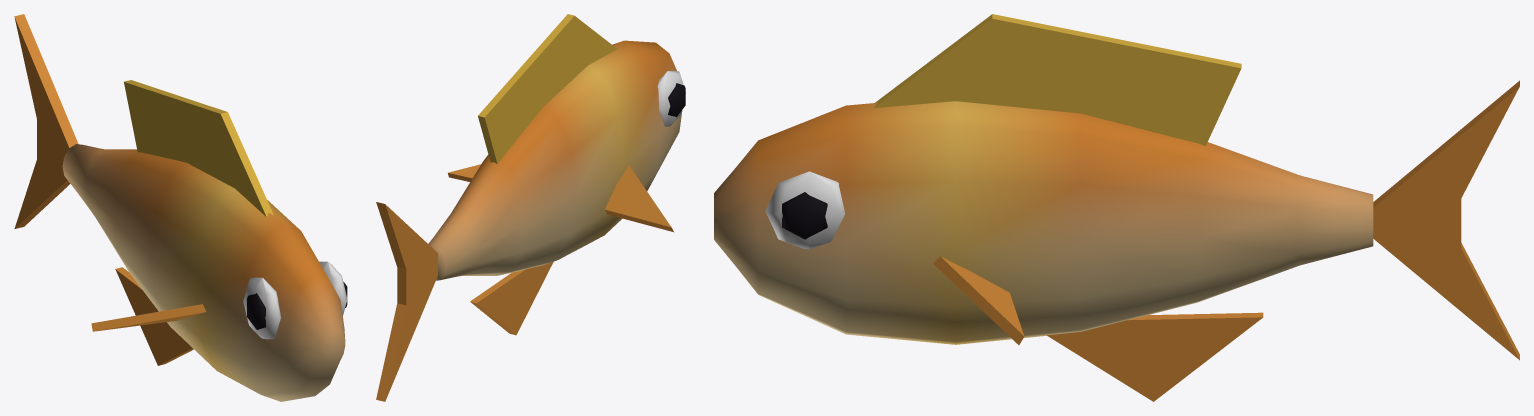
Rendered from fish_snapper.glb.
3 renders of one model, left to right at view 1: azimuth 30°, elevation 25°; view 2: azimuth 150°, elevation 25°; view 3: azimuth 270°, elevation 25°, orthographic. The views are drawn at different scales.
Parts seen in each view (by area): view 1: fish_snapper; view 2: fish_snapper; view 3: fish_snapper.
Boxes of the visible parts, x1,y1,x2,y2 form: fish_snapper: (14, 14, 347, 401); fish_snapper: (376, 14, 685, 401); fish_snapper: (714, 14, 1519, 401).
Size of the model in its own units: 0.1966 by 0.231 by 0.44.
